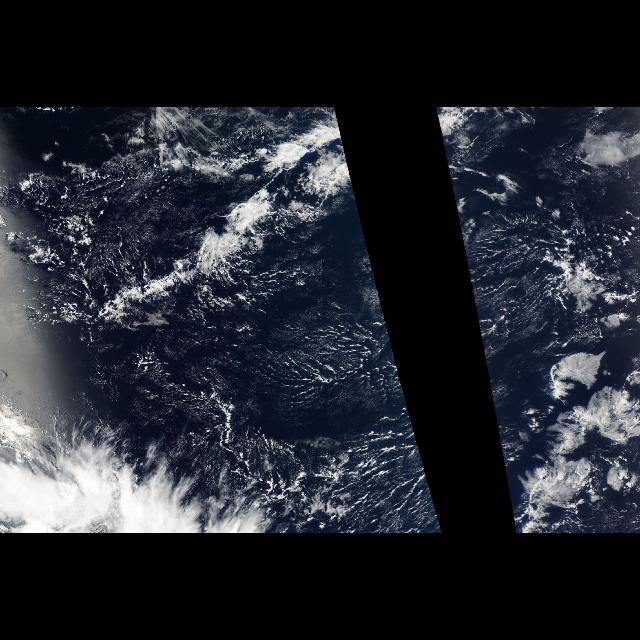Fish: (44, 107, 390, 341), (434, 107, 520, 341)
Flower: (480, 332, 640, 532)
Sugar: (215, 300, 442, 532)
